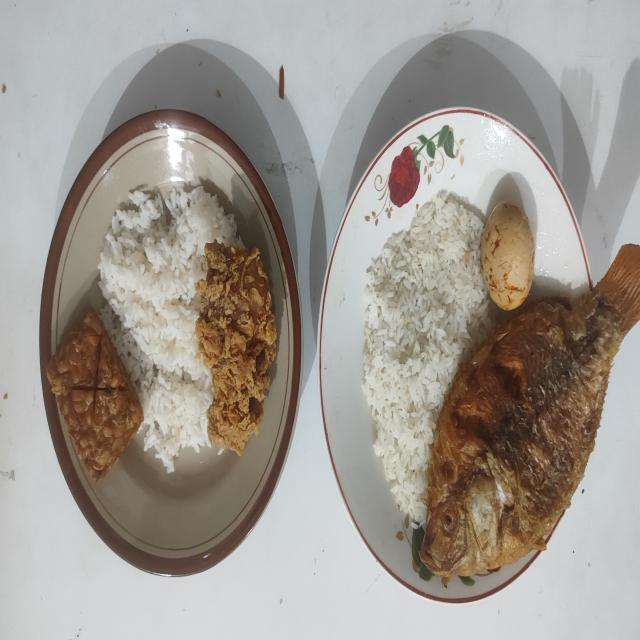ikan_mujair: (419, 245, 640, 580)
nasi_putih: (362, 191, 492, 521), (99, 187, 240, 471)
tempe_goreng: (45, 308, 144, 481)
